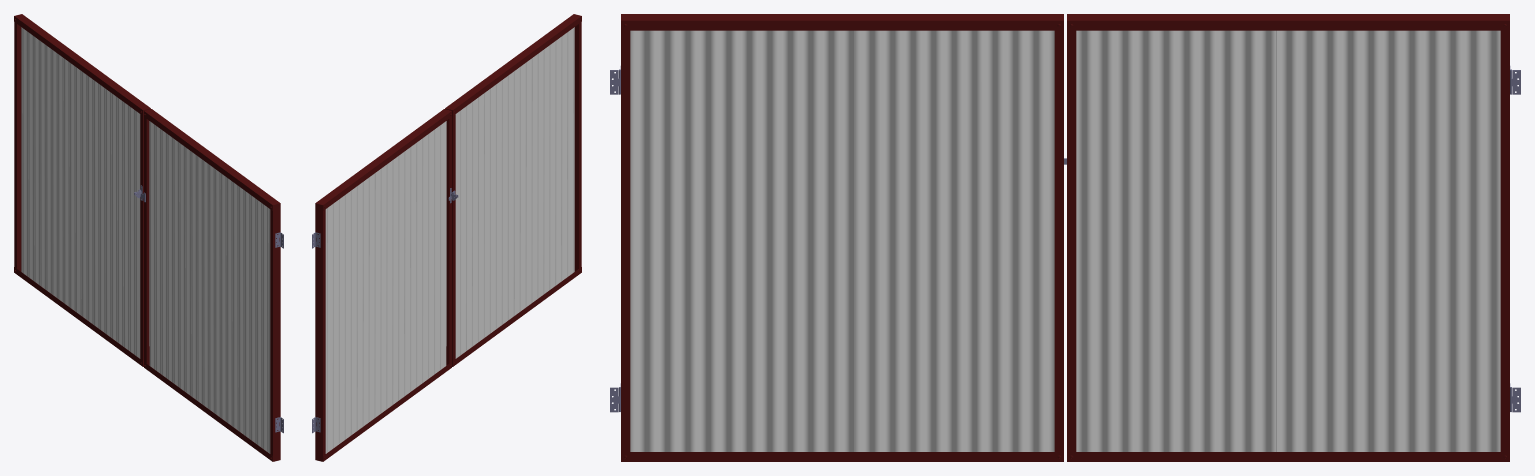
Rendered from GCDG18.glb.
The picture shows the model from 3 angles, left to right: view 1: azimuth 30°, elevation 25°; view 2: azimuth 150°, elevation 25°; view 3: azimuth 270°, elevation 25°; orthographic projection. The views are drawn at different scales.
Visible parts, largest first — view 1: GC - GOOD NEIGHBOUR CGI-16 DOUBLE DRIVEWAY GATE - VERTICAL -; view 2: GC - GOOD NEIGHBOUR CGI-16 DOUBLE DRIVEWAY GATE - VERTICAL -; view 3: GC - GOOD NEIGHBOUR CGI-16 DOUBLE DRIVEWAY GATE - VERTICAL -.
Boxes of the visible parts, x1,y1,x2,y2 form: GC - GOOD NEIGHBOUR CGI-16 DOUBLE DRIVEWAY GATE - VERTICAL -: (14, 14, 283, 461); GC - GOOD NEIGHBOUR CGI-16 DOUBLE DRIVEWAY GATE - VERTICAL -: (312, 14, 581, 461); GC - GOOD NEIGHBOUR CGI-16 DOUBLE DRIVEWAY GATE - VERTICAL -: (610, 14, 1520, 461).
Size of the model in its own units: 0.1206 by 1.81 by 3.38.
